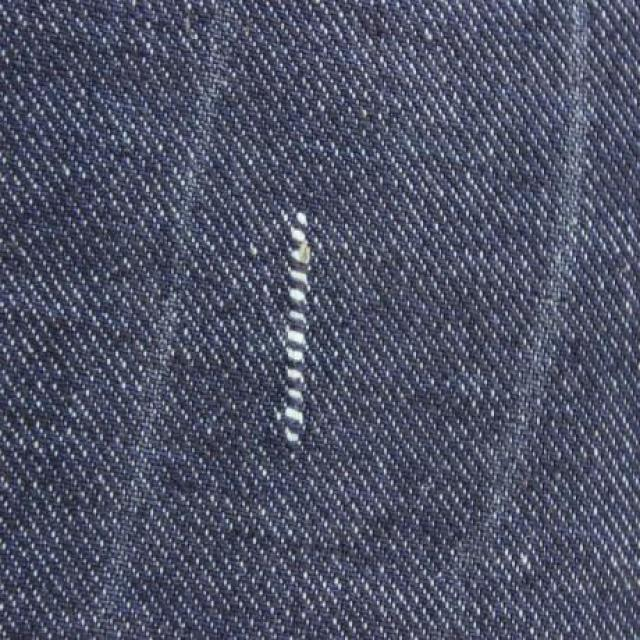stains: (232, 160, 378, 572)
